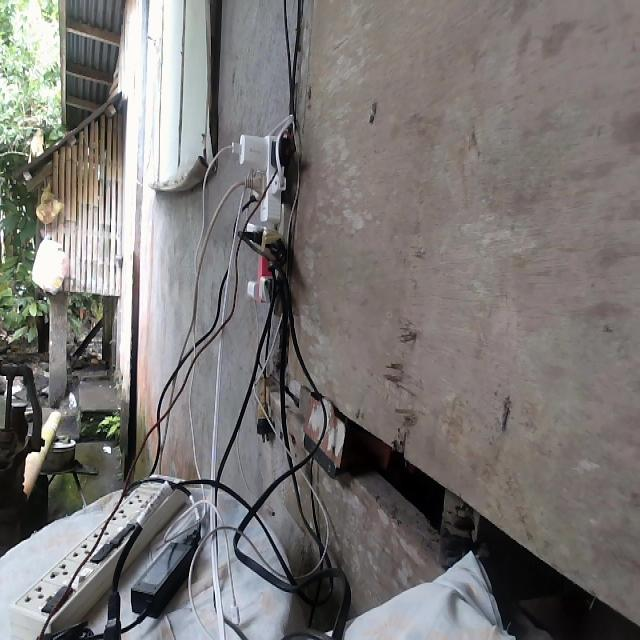-: (223, 123, 299, 305)
